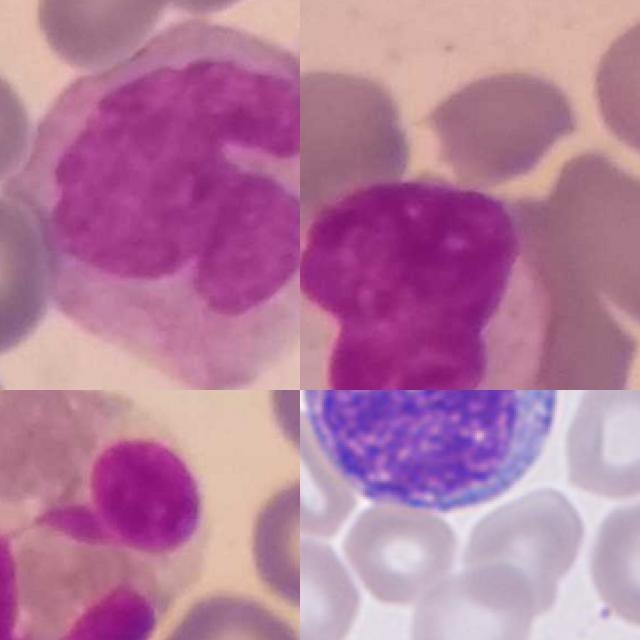Eosinophil: (0, 390, 211, 640)
Lymphocyte: (300, 390, 574, 525)
Monocyte: (24, 19, 300, 390), (300, 181, 555, 390)
RBC: (459, 483, 587, 621), (338, 499, 461, 609), (402, 559, 539, 640), (559, 390, 640, 502), (585, 489, 640, 630), (300, 530, 363, 640)
